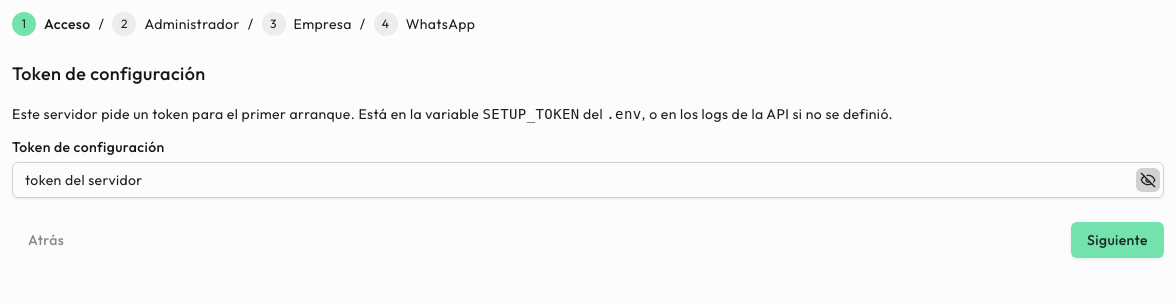
Test case: SetupWizard › shows a wrong token on the token step and does not advance
This screenshot has width=1176, height=304.
Type "malo" into the password field labelled "Token de configuración" at x=588, y=180, box [12,162,1164,198]
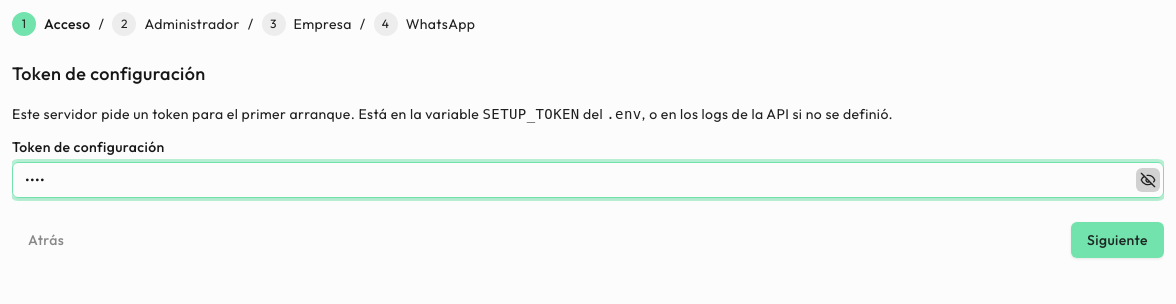
Click the button "Siguiente" at x=1118, y=240, box [1071,222,1164,258]
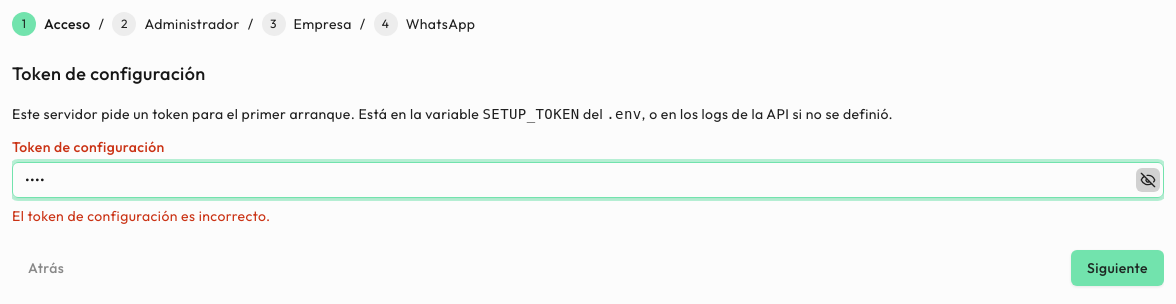
Expected: the heading "Token de configuración" is shown, [11,61,206,85]
Result: the text "El token de configuración es incorrecto." is shown at [12,207,270,225]
